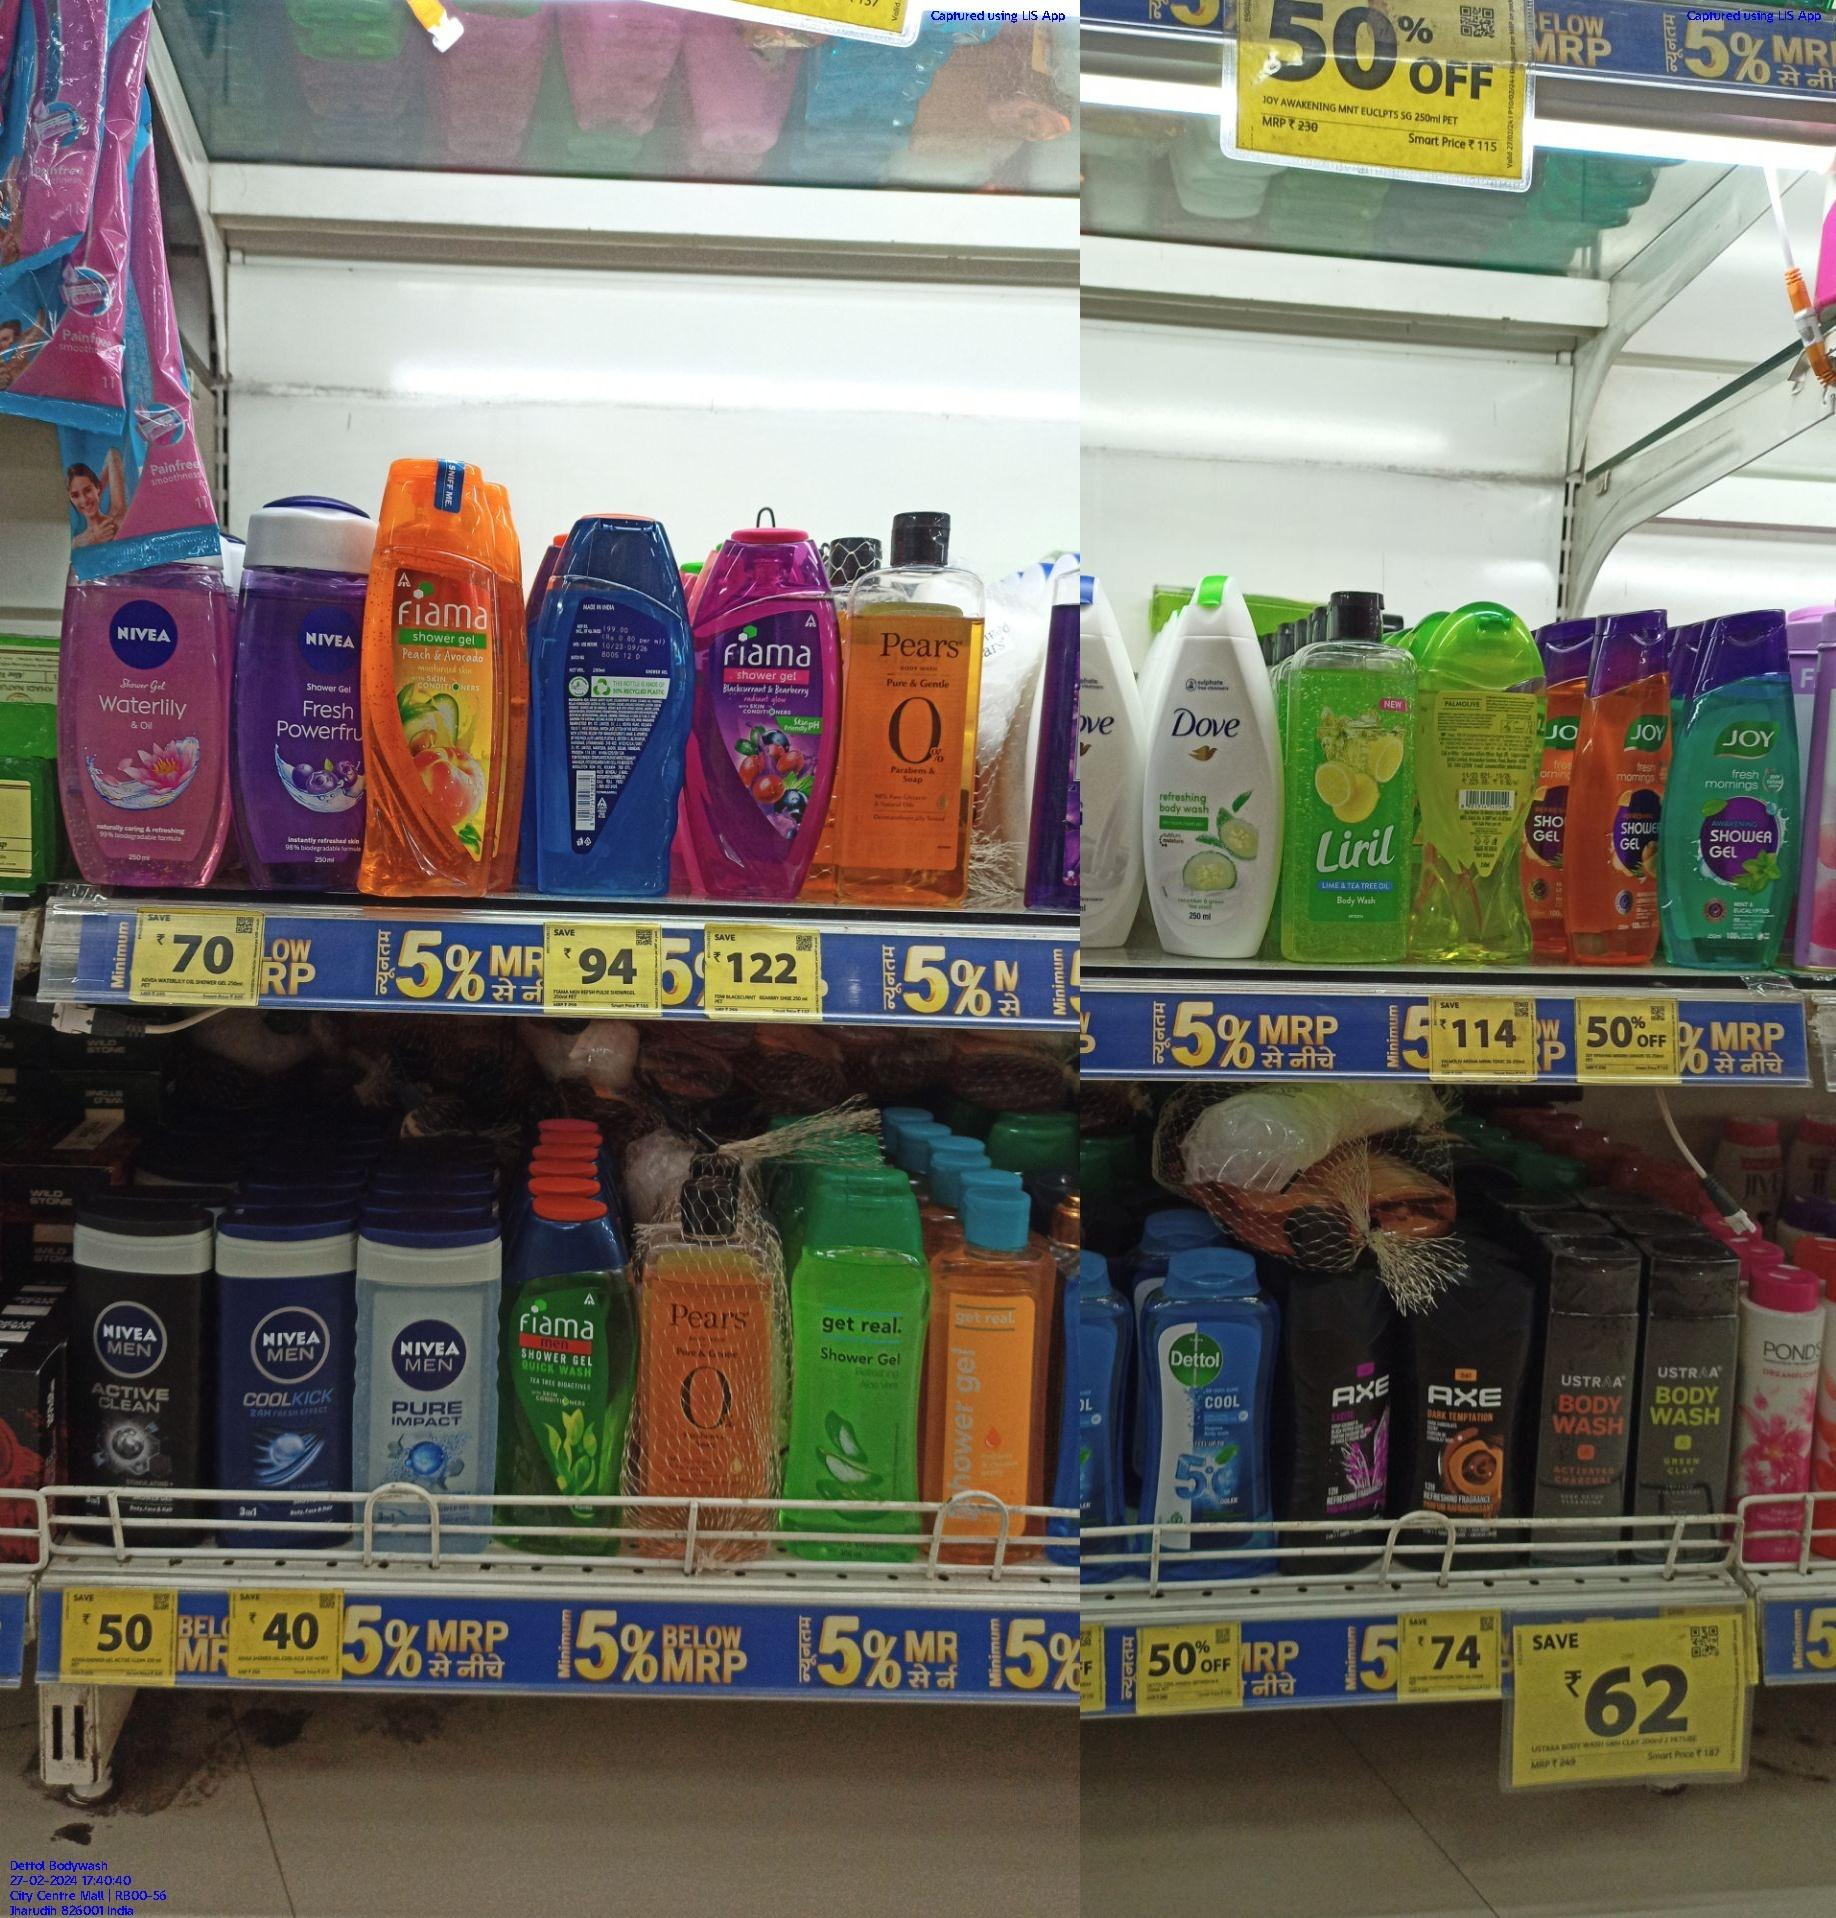Dettol_Bodywash_Cool: (1141, 1259, 1271, 1596)
Dove_Refreshing_Body_Wash_250ML: (1151, 577, 1271, 966)
Fiama_Shower_Gel_Peach_and_Avocado_250ML: (384, 437, 505, 901)
Joy_Shower_Gel_Mandarin_and_Lemongrass_250ML: (1584, 606, 1665, 964)
Joy_Shower_Gel_Mint_and_Eucalyptus_250ML: (1684, 606, 1803, 971)
Liril_Lime_and_Tea_Tree_Oil_Body_Wash_250ML: (1290, 582, 1416, 974)
Nivea_Shower_Gel_Fresh_Powerfruit_250ML: (236, 497, 373, 897)
Nivea_Shower_Gel_Waterlily_and_Oil_250ML: (62, 541, 224, 892)
